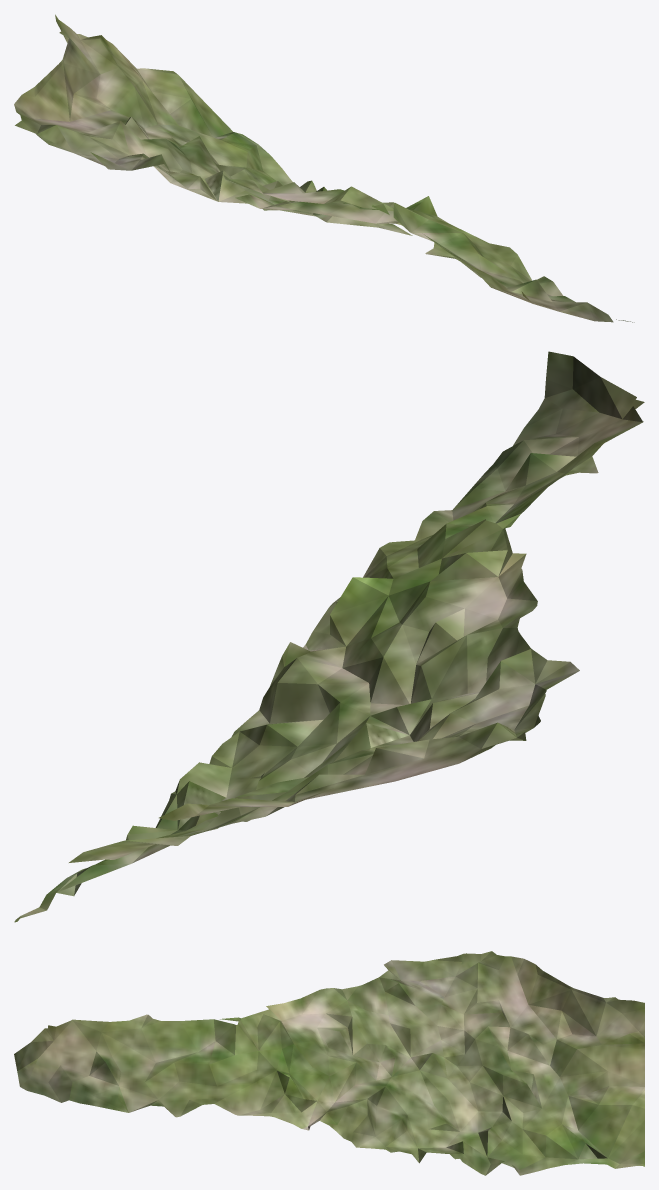
The picture shows the model from 3 angles, top to bottom: view 1: azimuth 30°, elevation 25°; view 2: azimuth 150°, elevation 25°; view 3: azimuth 270°, elevation 25°; orthographic projection. The views are drawn at different scales.
Bounding box in the file's own units: 9.2 × 4.49 × 22.32.
Materials: 1 (1 with a texture image).
